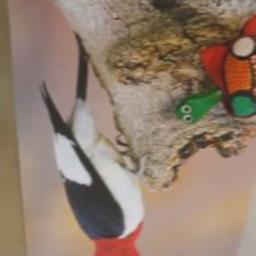Woodpecker: (38, 31, 163, 256)
